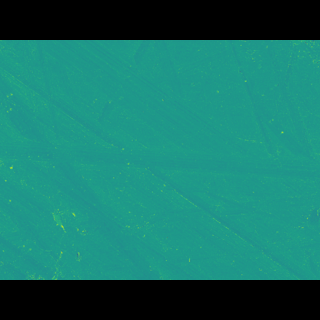Loch: (34, 69, 320, 219), (0, 138, 320, 175), (39, 190, 80, 215)
